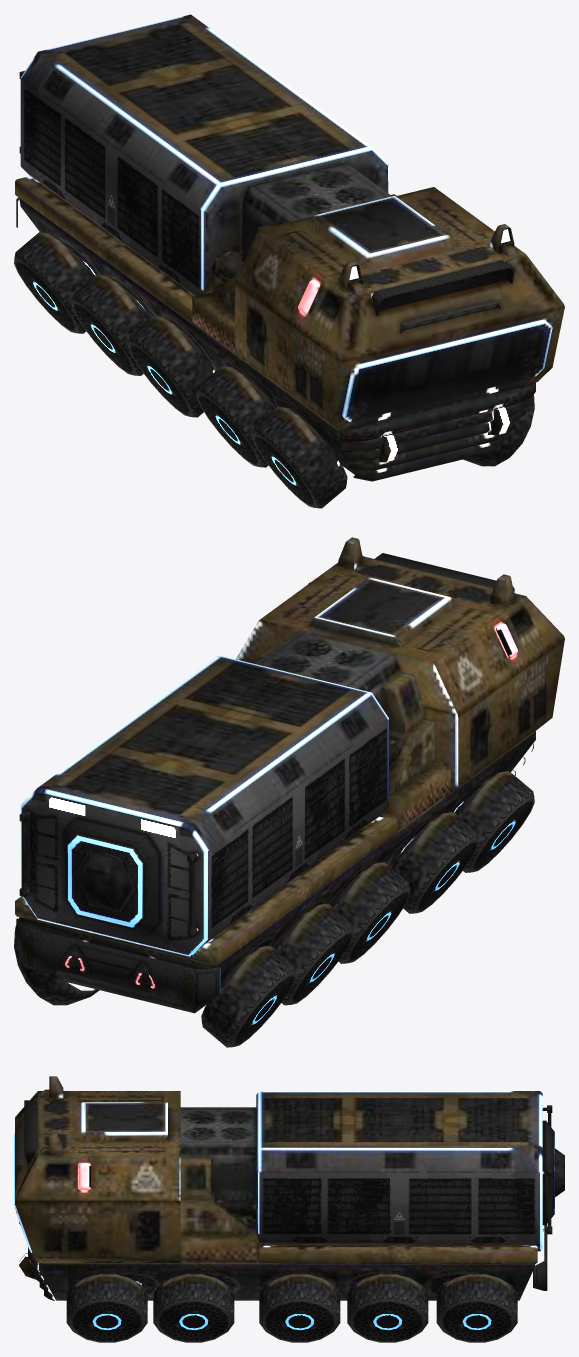
File: cybercar02.glb
3 views of the same model, one above another, from view 1: azimuth 30°, elevation 25°; view 2: azimuth 150°, elevation 25°; view 3: azimuth 270°, elevation 25° (orthographic). The views are drawn at different scales.
Visible parts, largest first — view 1: CAR_LOW2_Baked; view 2: CAR_LOW2_Baked; view 3: CAR_LOW2_Baked.
Part boxes in pixels (x1,y1,x2,y2): CAR_LOW2_Baked: [14, 14, 564, 508]; CAR_LOW2_Baked: [14, 537, 564, 1047]; CAR_LOW2_Baked: [14, 1076, 564, 1342].
Bounding box in the file's own units: 0.4925 × 0.477 × 1.17.
Materials: 1 (1 with a texture image).
